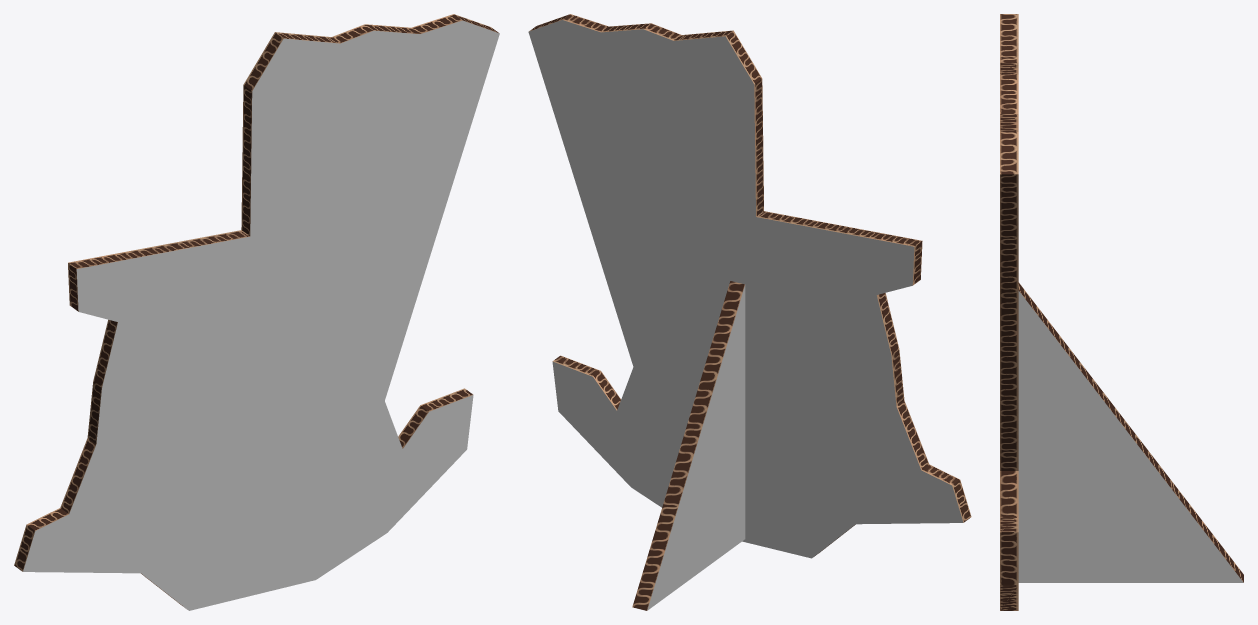
The model's file is Chaise.fbx.
3 renders of one model, left to right at view 1: azimuth 30°, elevation 25°; view 2: azimuth 150°, elevation 25°; view 3: azimuth 270°, elevation 25°, orthographic. The views are drawn at different scales.
Visible parts, largest first — view 1: Chaise_LOD0; view 2: Chaise_LOD0; view 3: Chaise_LOD0.
Boxes of the visible parts, x1,y1,x2,y2 form: Chaise_LOD0: (14,14,499,610); Chaise_LOD0: (528,14,971,610); Chaise_LOD0: (1000,14,1243,610).
Bounding box in the file's own units: 369 × 406 × 156.
